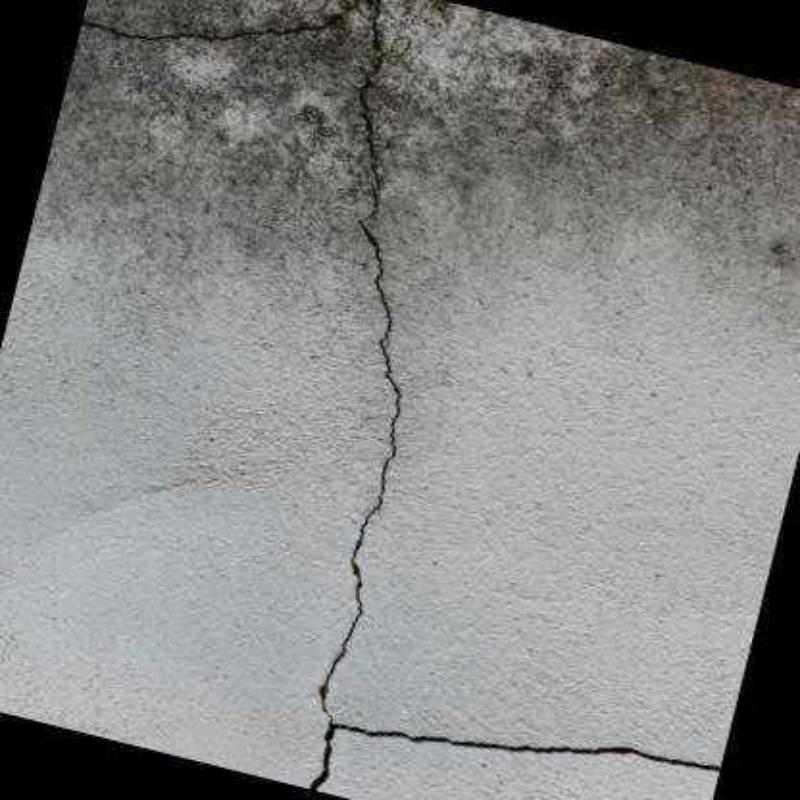pothole: (304, 0, 721, 791), (82, 0, 361, 40)
